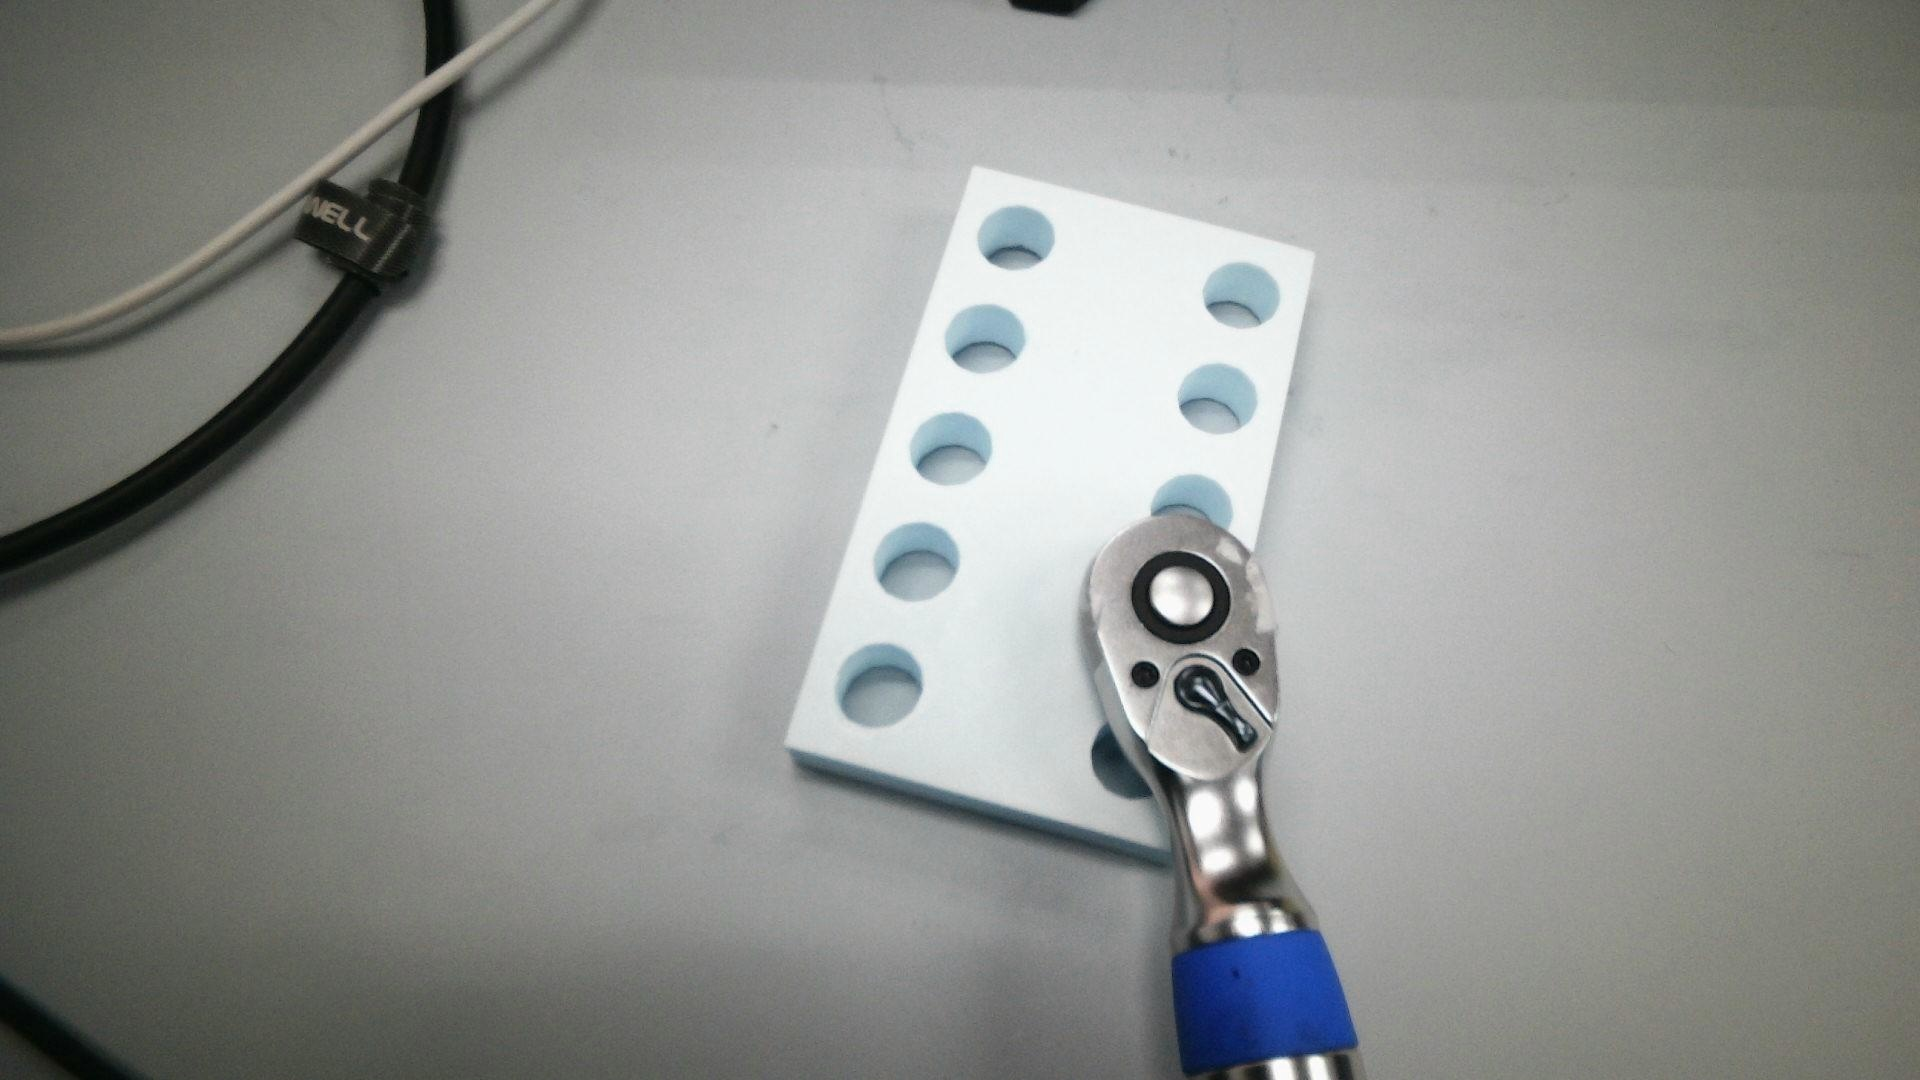hole: (835, 644, 922, 728), (869, 524, 961, 603), (906, 411, 993, 487), (943, 305, 1026, 375), (1091, 720, 1160, 802), (1179, 364, 1257, 434), (1201, 261, 1280, 330), (977, 206, 1058, 270), (1151, 475, 1234, 534)
obj: (785, 164, 1316, 870)
wrench: (1131, 550, 1232, 647)
